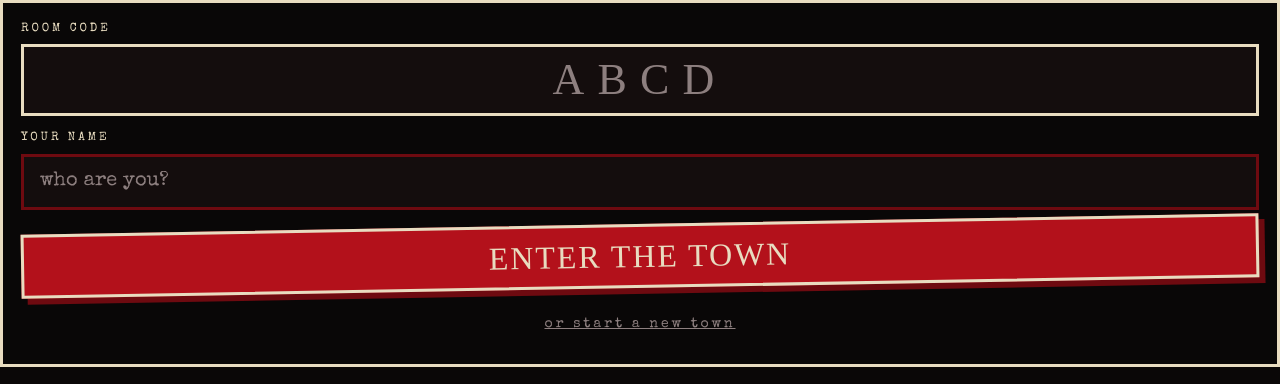
it: JoinForm › switches between joining and creating
What coordinates should you click on to do the following:
click the button "or start a new town"
I would click on:
 (640, 324)
Its box is top-left (21, 302), bottom-right (1259, 346).
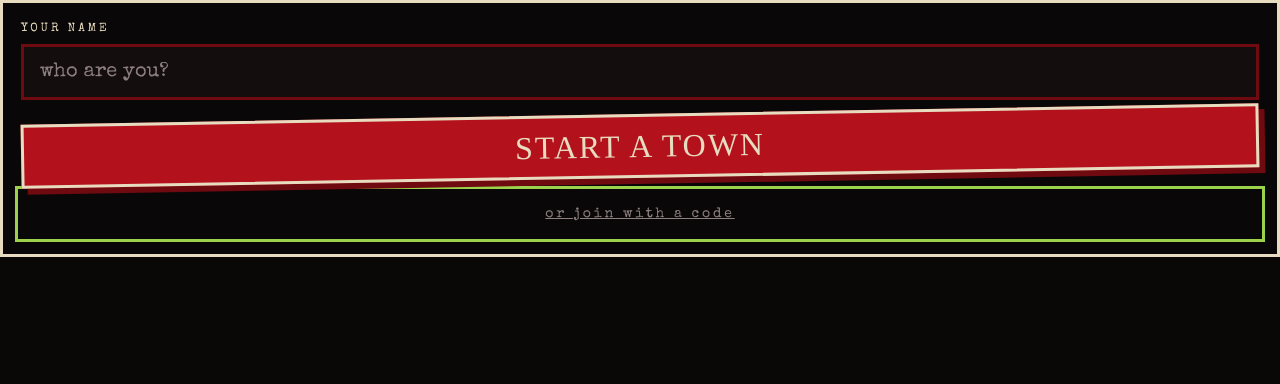
expect the button "START A TOWN" is shown: met, box top-left (20, 104), bottom-right (1259, 189)
What coordinates should you click on to do the following:
click the button "or join with a code"
I would click on:
 (640, 214)
Its box is top-left (21, 192), bottom-right (1259, 236).
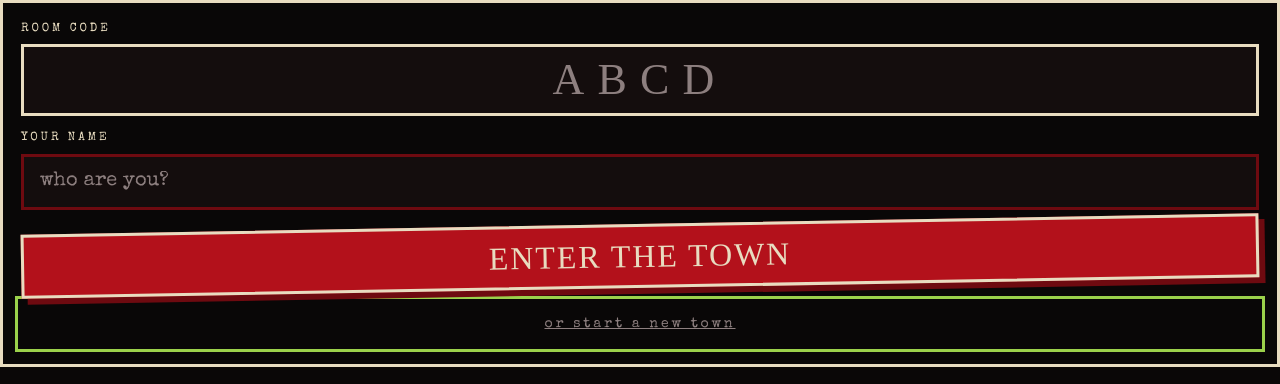
expect the field labelled "Room code" is shown: met, box top-left (21, 44), bottom-right (1259, 116)
